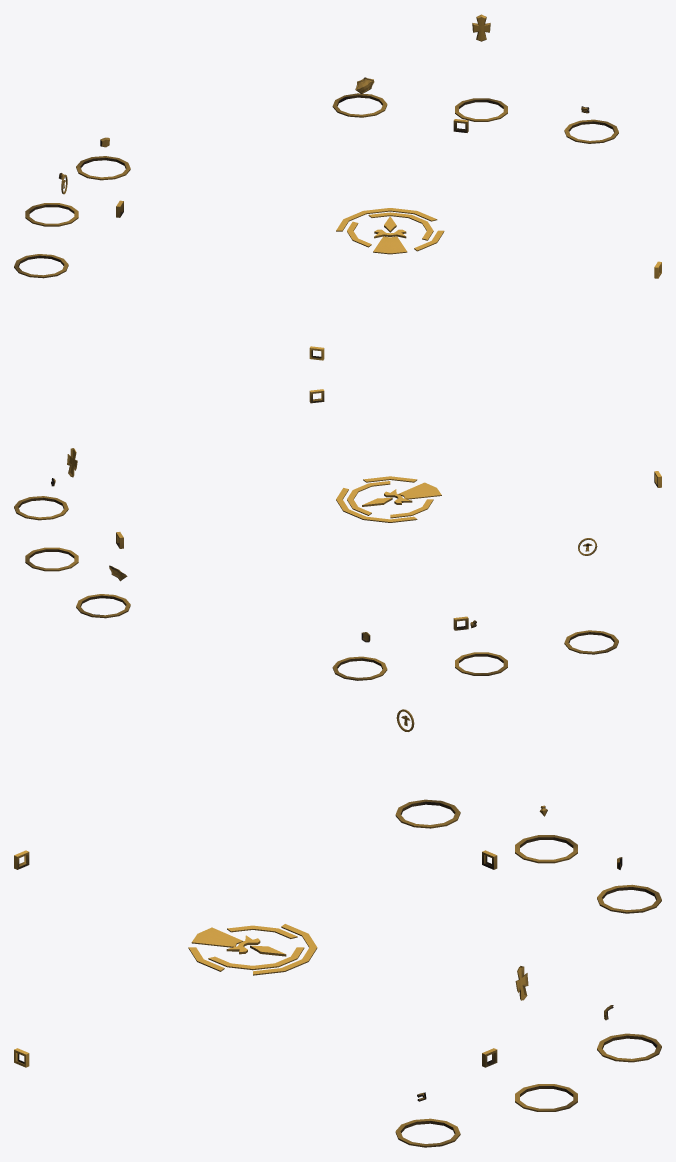
The model's file is Ground_05.FBX.
3 views of the same model, one above another, from view 1: azimuth 30°, elevation 25°; view 2: azimuth 150°, elevation 25°; view 3: azimuth 270°, elevation 25° (orthographic). The views are drawn at different scales.
Parts seen in each view (by area): view 1: Ground_05; view 2: Ground_05; view 3: Ground_05.
Part boxes in pixels (<box>): Ground_05: <box>14,14,661,360</box>; Ground_05: <box>14,389,661,680</box>; Ground_05: <box>14,709,661,1147</box>.
Size of the model in its own units: 32.9 by 5.68 by 26.
